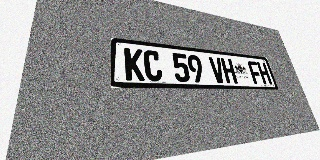5: (172, 53, 191, 82)
9: (186, 54, 205, 83)
C: (143, 49, 163, 81)
F: (247, 61, 264, 84)
H: (220, 58, 238, 83), (256, 62, 272, 84)
K: (124, 47, 145, 81)
V: (208, 57, 226, 83)
